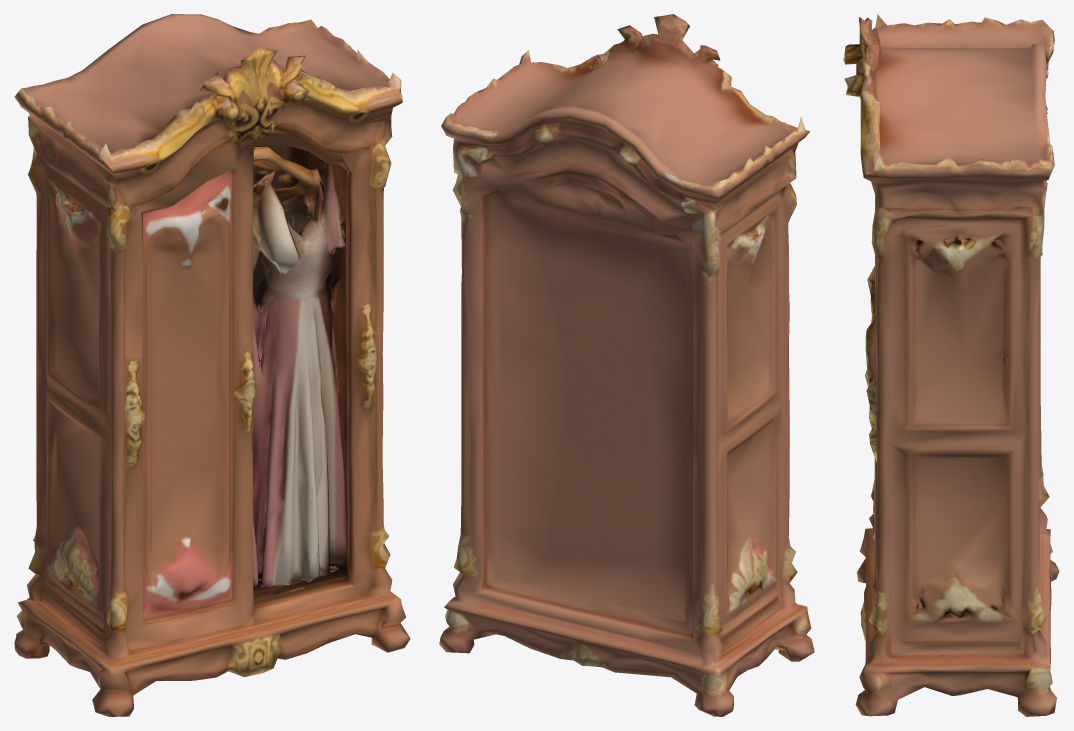
The model's file is asset.glb.
3 views of the same model, side by side, from view 1: azimuth 30°, elevation 25°; view 2: azimuth 150°, elevation 25°; view 3: azimuth 270°, elevation 25° (orthographic). The views are drawn at different scales.
Size of the model in its own units: 0.9861 by 1.92 by 0.5984.
Materials: 1 (1 with a texture image).
